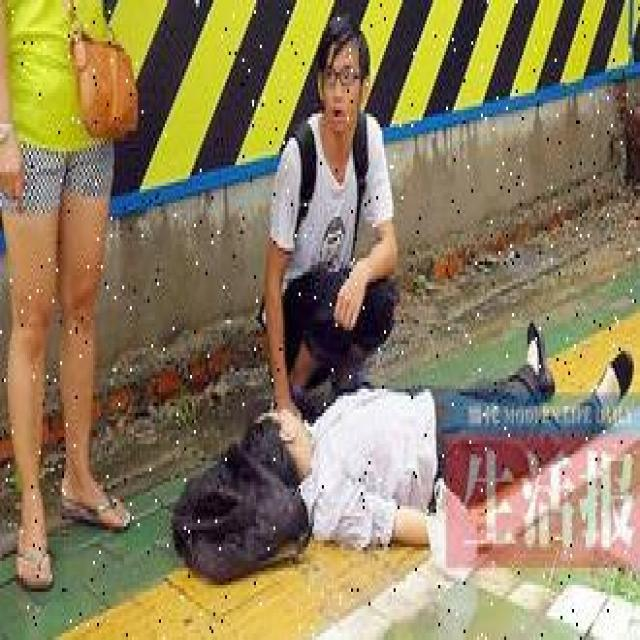fall: (250, 334, 622, 547)
